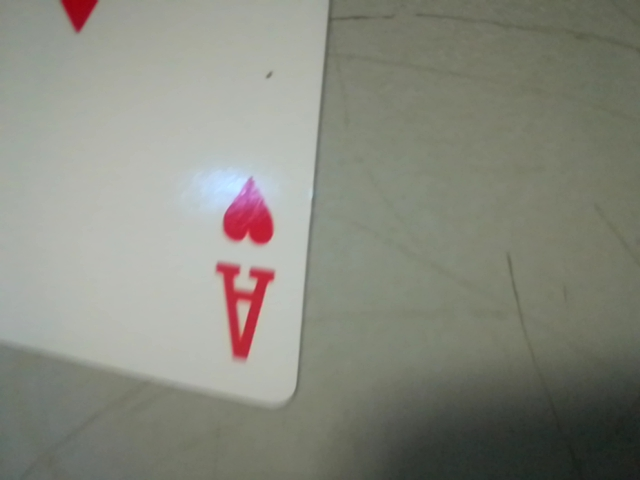hx a: (195, 164, 295, 380)
